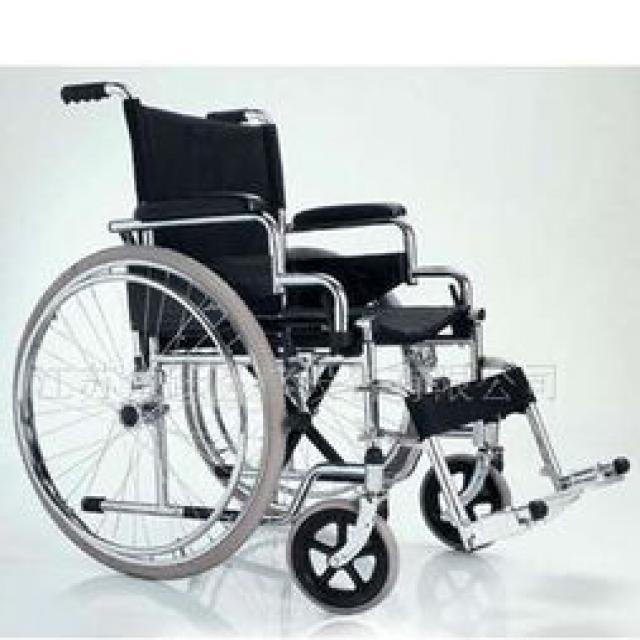wheelchair: (5, 74, 632, 618)
